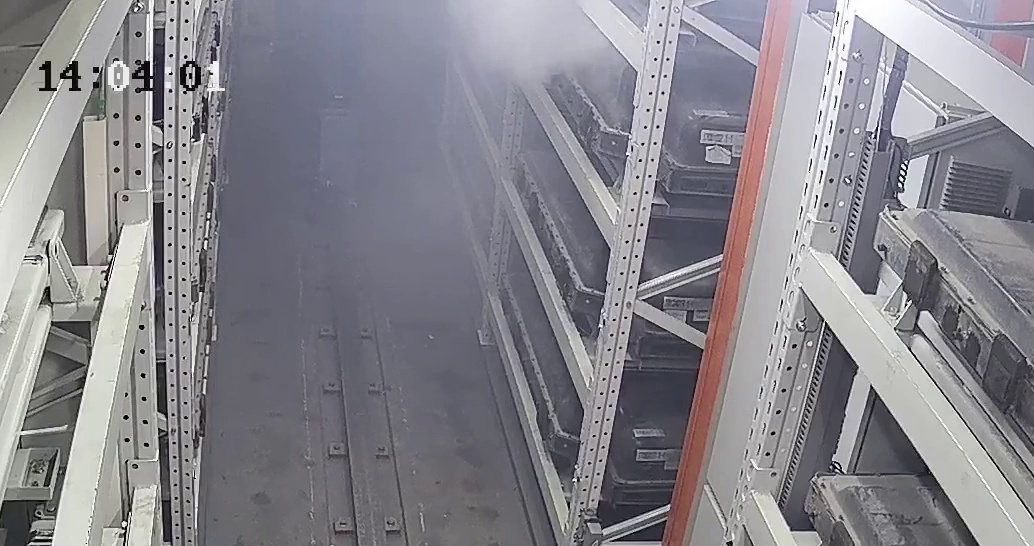smoke: (442, 1, 613, 90)
